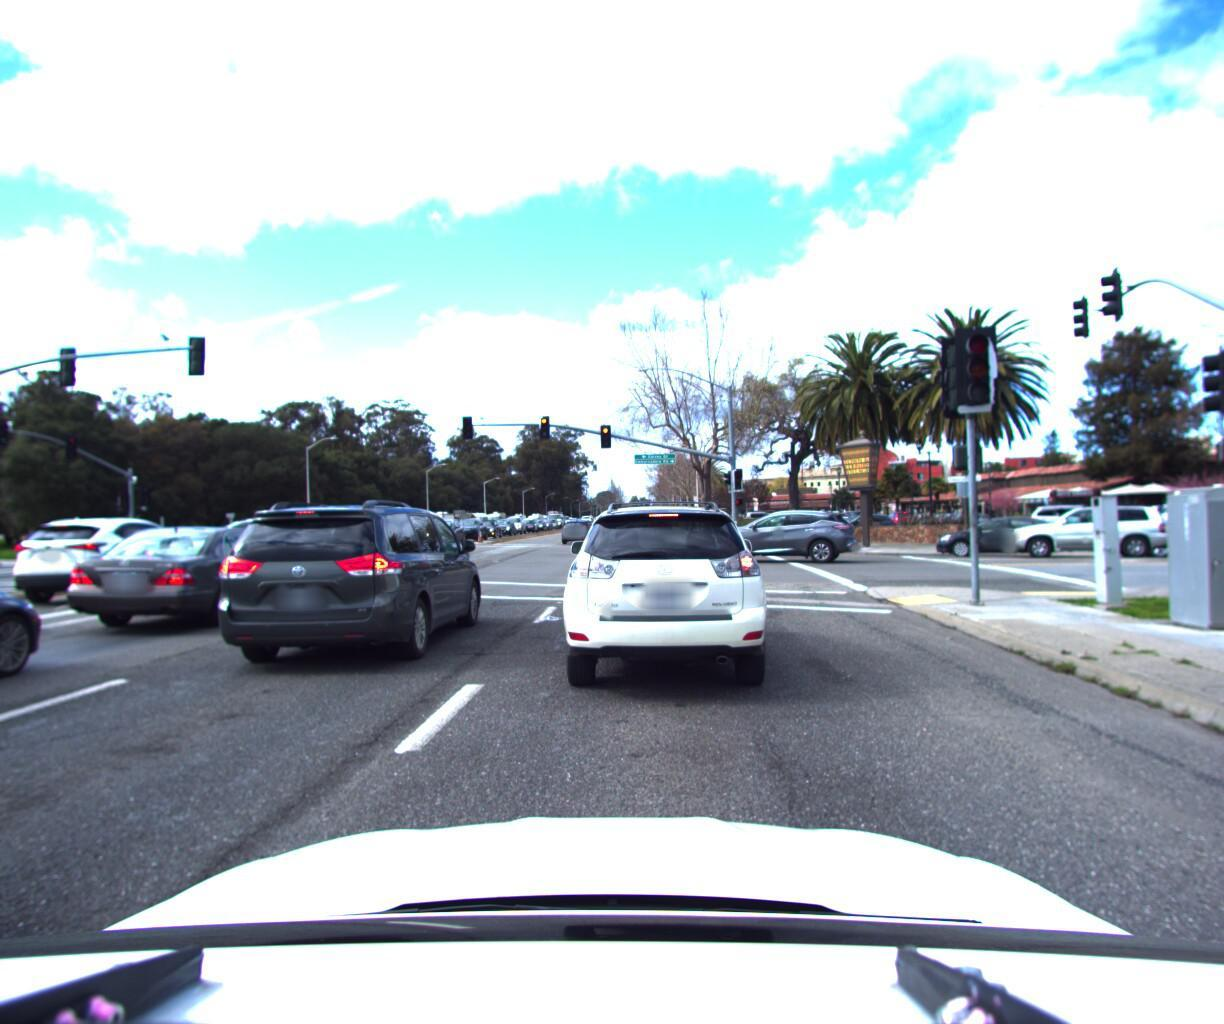car: (209, 494, 498, 677), (553, 486, 784, 707), (59, 523, 327, 643), (0, 518, 226, 615), (0, 529, 57, 810), (1002, 493, 1171, 562), (166, 517, 339, 582), (712, 505, 864, 564), (1118, 496, 1224, 556), (933, 513, 1061, 559), (0, 518, 16, 697), (560, 518, 607, 545), (452, 519, 493, 543), (493, 521, 523, 538)
other_vehicle: (334, 505, 402, 544)
